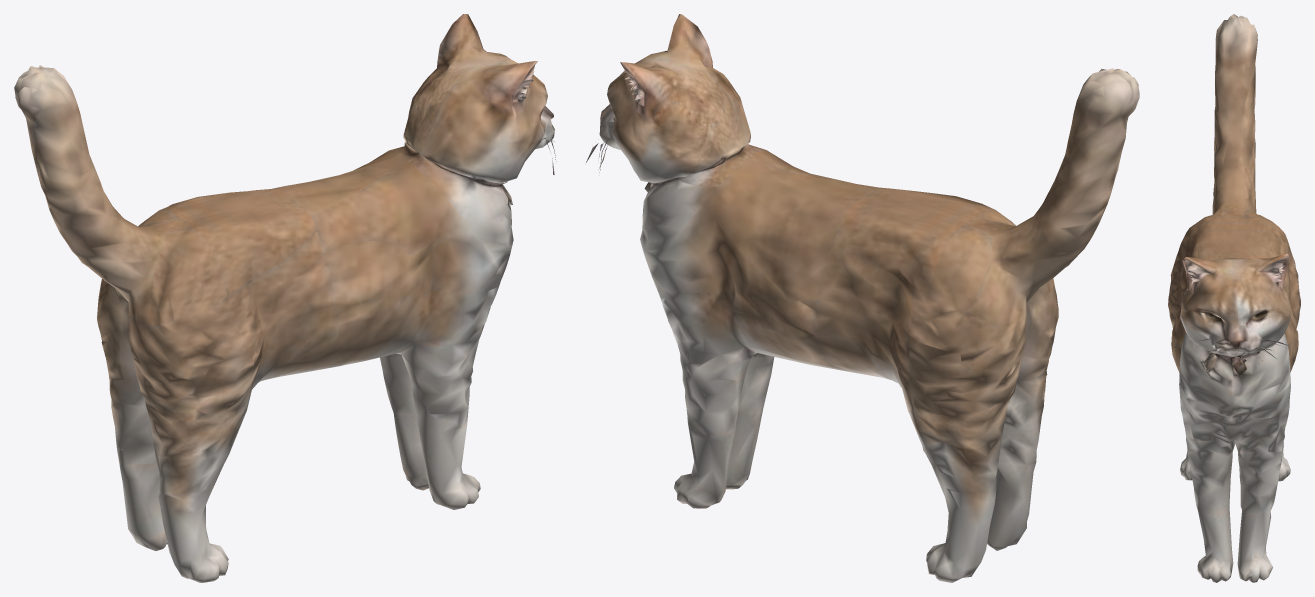
Rendered from NOZAWAMUGI-lo.glb.
3 views of the same model, side by side, from view 1: azimuth 30°, elevation 25°; view 2: azimuth 150°, elevation 25°; view 3: azimuth 270°, elevation 25° (orthographic). The views are drawn at different scales.
Parts seen in each view (by area): view 1: tripo_node_82af3e2f-f324-4d57-b78f-a6be52e3049a; view 2: tripo_node_82af3e2f-f324-4d57-b78f-a6be52e3049a; view 3: tripo_node_82af3e2f-f324-4d57-b78f-a6be52e3049a.
Part boxes in pixels (x1,y1,x2,y2): tripo_node_82af3e2f-f324-4d57-b78f-a6be52e3049a: [14, 14, 556, 582]; tripo_node_82af3e2f-f324-4d57-b78f-a6be52e3049a: [586, 14, 1139, 582]; tripo_node_82af3e2f-f324-4d57-b78f-a6be52e3049a: [1168, 14, 1300, 582].
Bounding box in the file's own units: 1.06 × 0.9991 × 0.294.
Materials: 1 (1 with a texture image).
